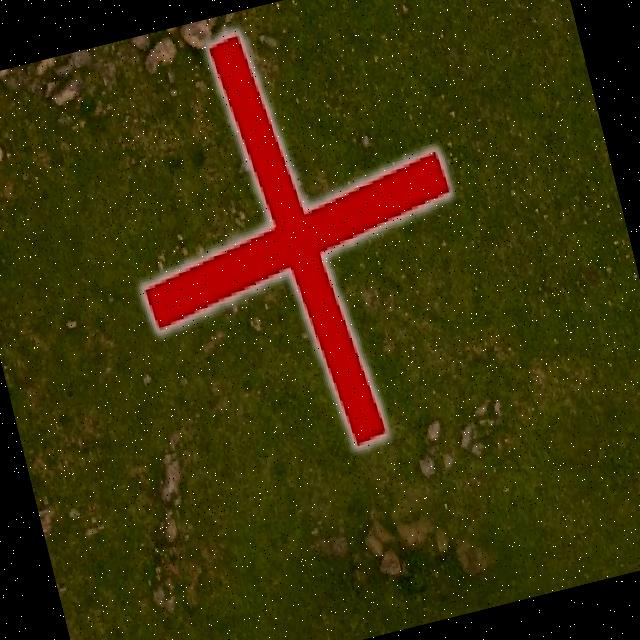x_marker: (87, 0, 501, 485)
